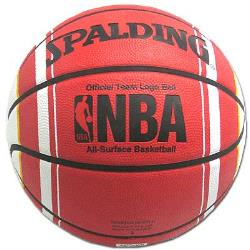basketball: (7, 4, 246, 250)
